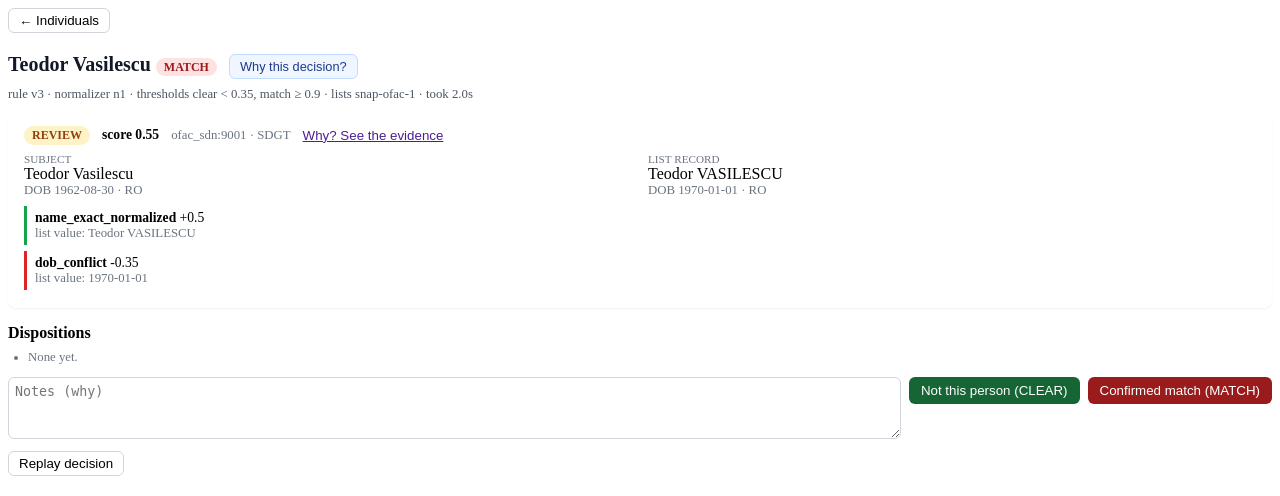
Scenario: IndividualDetail › records a disposition and shows the replay result
Expected: the element with test id "disposition-form" is shown, left=8, top=377, right=1272, bottom=439
Type "different person" into the text box with test id "disposition-notes".
click(454, 408); type("different person")  # box left=8, top=377, right=901, bottom=439
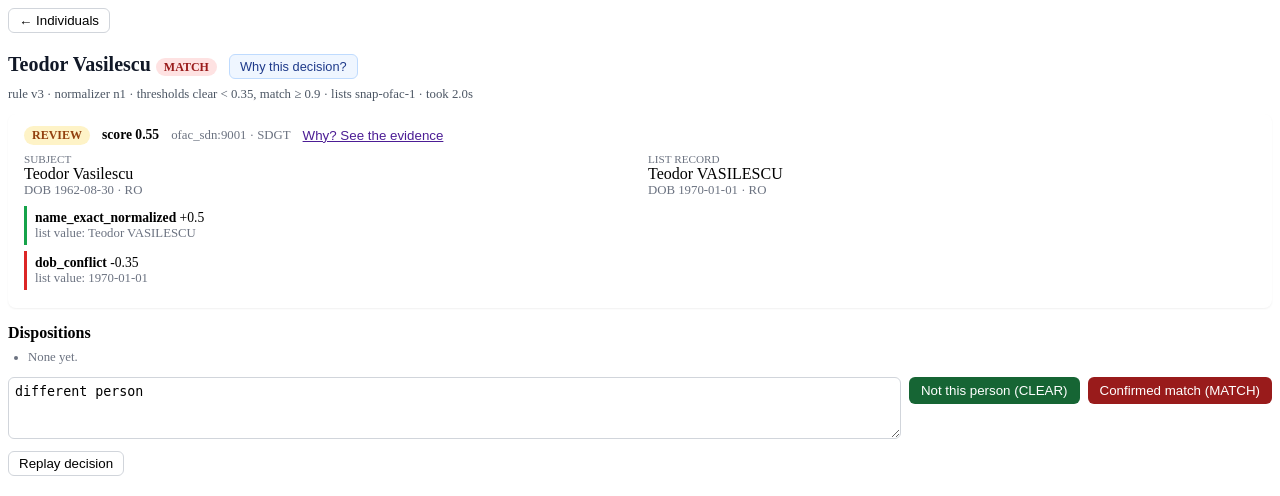
Click the button with test id "dispose-CLEAR".
click(994, 390)  # box left=909, top=377, right=1080, bottom=404
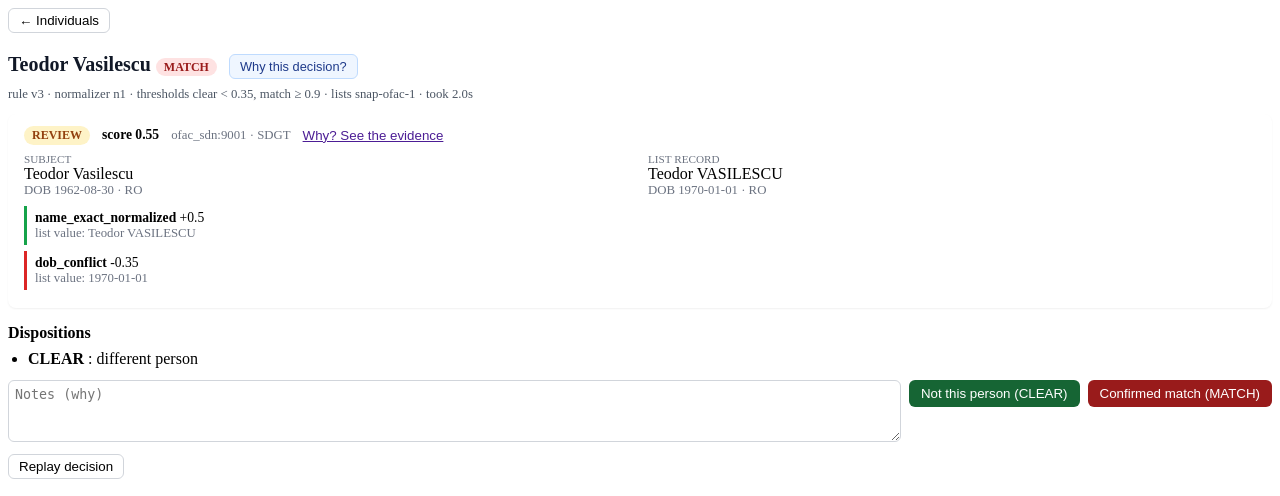
Now the list with test id "disposition-history" shows "different person", box left=88, top=350, right=198, bottom=367
Click the button with test id "replay-button".
click(66, 466)  # box left=8, top=454, right=124, bottom=479
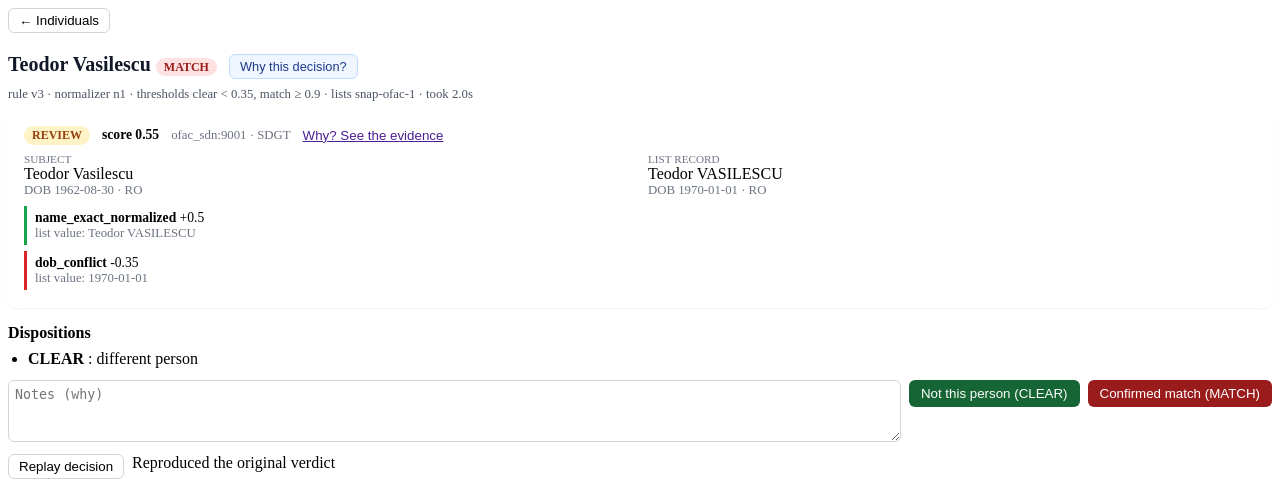
Now the text with test id "replay-result" shows "Reproduced", box left=132, top=454, right=335, bottom=471
